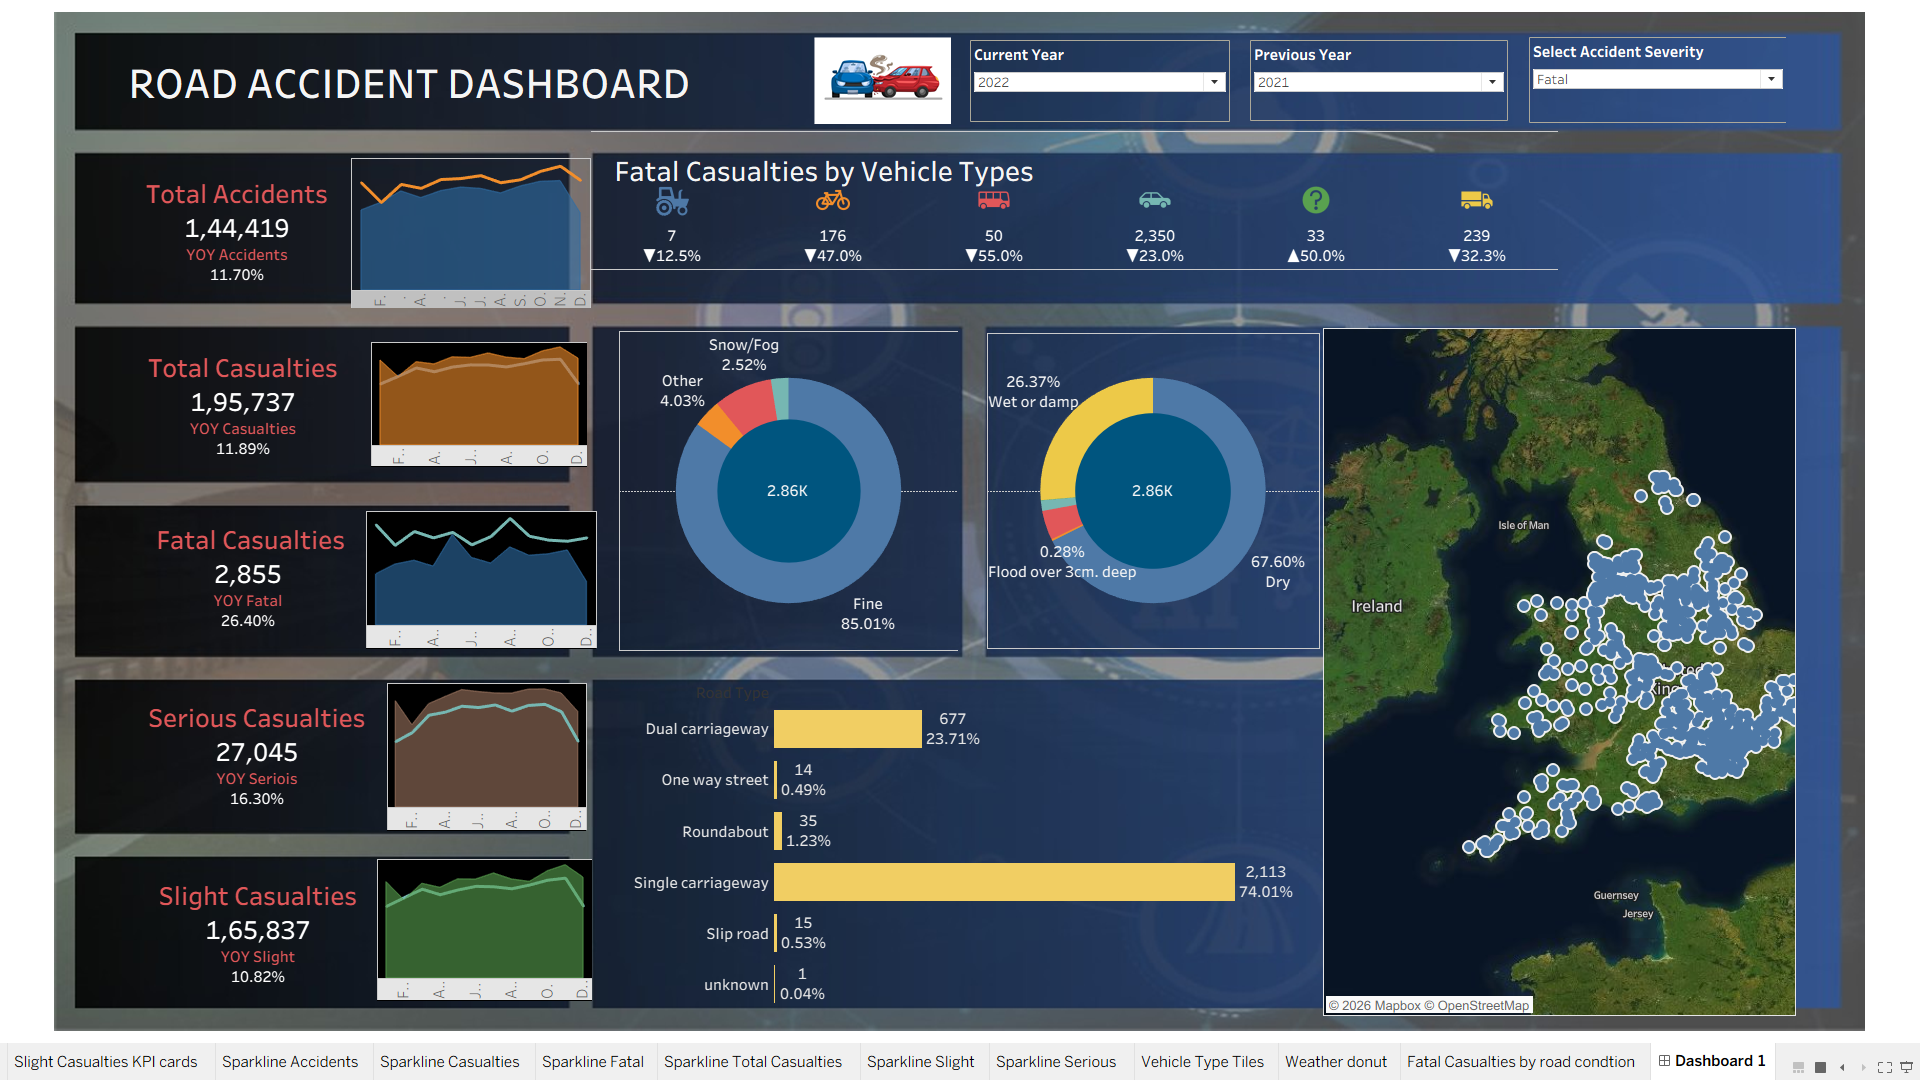

This screenshot's page, from the dashboard's own definition file:
{"tool":"tableau","page":{"name":"Dashboard 1","canvas":[1000,1000],"units":"permille","ordinal":0},"visuals":[{"type":"image","param":"Image/Background.jpg.jpeg","box":[4.8,9.4,990.3,981.2]},{"type":"image","param":"Image/car-crash-accident-side-impact-illustration-concept-in-cartoon-vector.jpg","box":[424,35.2,71.4,85.8]},{"type":"parameter","param":"[Parameters].[Parameter 1600673662885896]","box":[796.2,35.2,134.2,82.3]},{"type":"text","box":[65.3,37.6,363.6,81.1]},{"type":"parameter","param":"[Parameters].[Parameter 1600673660440580]","box":[505.2,38.8,135.4,78.7]},{"type":"parameter","param":"[Parameters].[Parameter 1600673662119943]","box":[651,38.8,134.2,77.6]},{"type":"worksheet","title":"Vehicle Type Tiles","mark":"Shape","cols":["Vehicle_Types"],"box":[307.9,125.7,647.9,170.4]},{"type":"text","box":[318,148.1,299.9,31.7]},{"type":"worksheet","title":"Total Accidents KPIs Card","mark":"Automatic","box":[64.6,149.2,117.7,144.5]},{"type":"worksheet","title":"Sparkline Accidents","mark":"Automatic","rows":["Calculation_1600673664757770","Calculation_1600673665400843"],"cols":["Calculation_1600673646653442"],"box":[182.9,151.6,124.9,144.5]},{"type":"worksheet","title":"Total Casualties KPIs Card","mark":"Automatic","box":[66.4,313.8,120.7,153.9]},{"type":"worksheet","title":"Map","mark":"Automatic","rows":["Latitude"],"cols":["Longitude"],"box":[689.2,314.9,246.2,659.2]},{"type":"worksheet","title":"Weather donut","mark":"Pie","rows":["Calculation_1698805644668930","Calculation_1698805644754948"],"box":[322.3,317.3,176.8,306.7]},{"type":"worksheet","title":"Fatal Casualties by road condtion","mark":"Pie","rows":["Calculation_1698805644668930","Calculation_1698805644754948"],"box":[514.2,319.6,173.2,303.2]},{"type":"worksheet","title":"Sparkline Total Casualties","mark":"Area","rows":["Calculation_1600673669722125","Calculation_1600673670205454"],"cols":["Calculation_1600673646653442"],"box":[193.1,327.9,112.9,119.9]},{"type":"worksheet","title":"Fatal Casualties KPI card.","mark":"Automatic","box":[67.6,483,122.5,141]},{"type":"worksheet","title":"Sparkline Fatal","mark":"Area","rows":["Calculation_1600673672777744","Calculation_1600673673363473"],"cols":["Calculation_1600673646653442"],"box":[190.7,490,120.1,132.8]},{"type":"worksheet","title":"Serious Casualties KPI card.","mark":"Automatic","box":[65.8,648.6,135.8,151.6]},{"type":"worksheet","title":"Sparkline Serious ","mark":"Area","rows":["Calculation_1600673675071509","Calculation_1600673674903571"],"cols":["Calculation_1600673646653442"],"box":[201.6,654.5,104.4,142.2]},{"type":"worksheet","title":"Fatal casualties by Road type","mark":"Automatic","rows":["Road_Type"],"cols":["Calculation_1600673677799452"],"box":[319.7,654.5,367.9,313.8]},{"type":"worksheet","title":"Slight Casualties KPI cards","mark":"Automatic","box":[67.6,821.4,132.8,148.1]},{"type":"worksheet","title":"Sparkline Slight","mark":"Area","rows":["Calculation_1600673675481111","Calculation_1600673675603992"],"cols":["Calculation_1600673646653442"],"box":[196.1,823.7,112.2,136.3]}]}

Visuals, with their boxes on the dashboard's canvas, which has no fixed pixel size, in thousandths of its width and height (x1, y1, x2, y2). These are canvas units, not pixel positions in the 1920x1080 screenshot, which may show the page scaled, cropped or inside an application window:
image: [5, 9, 995, 991]
image: [424, 35, 495, 121]
parameter: [796, 35, 930, 118]
text: [65, 38, 429, 119]
parameter: [505, 39, 641, 118]
parameter: [651, 39, 785, 116]
"Vehicle Type Tiles" worksheet (Shape marks): [308, 126, 956, 296]
text: [318, 148, 618, 180]
"Total Accidents KPIs Card" worksheet: [65, 149, 182, 294]
"Sparkline Accidents" worksheet: [183, 152, 308, 296]
"Total Casualties KPIs Card" worksheet: [66, 314, 187, 468]
"Map" worksheet: [689, 315, 935, 974]
"Weather donut" worksheet (Pie marks): [322, 317, 499, 624]
"Fatal Casualties by road condtion" worksheet (Pie marks): [514, 320, 687, 623]
"Sparkline Total Casualties" worksheet (Area marks): [193, 328, 306, 448]
"Fatal Casualties KPI card." worksheet: [68, 483, 190, 624]
"Sparkline Fatal" worksheet (Area marks): [191, 490, 311, 623]
"Serious Casualties KPI card." worksheet: [66, 649, 202, 800]
"Sparkline Serious " worksheet (Area marks): [202, 654, 306, 797]
"Fatal casualties by Road type" worksheet: [320, 654, 688, 968]
"Slight Casualties KPI cards" worksheet: [68, 821, 200, 970]
"Sparkline Slight" worksheet (Area marks): [196, 824, 308, 960]
